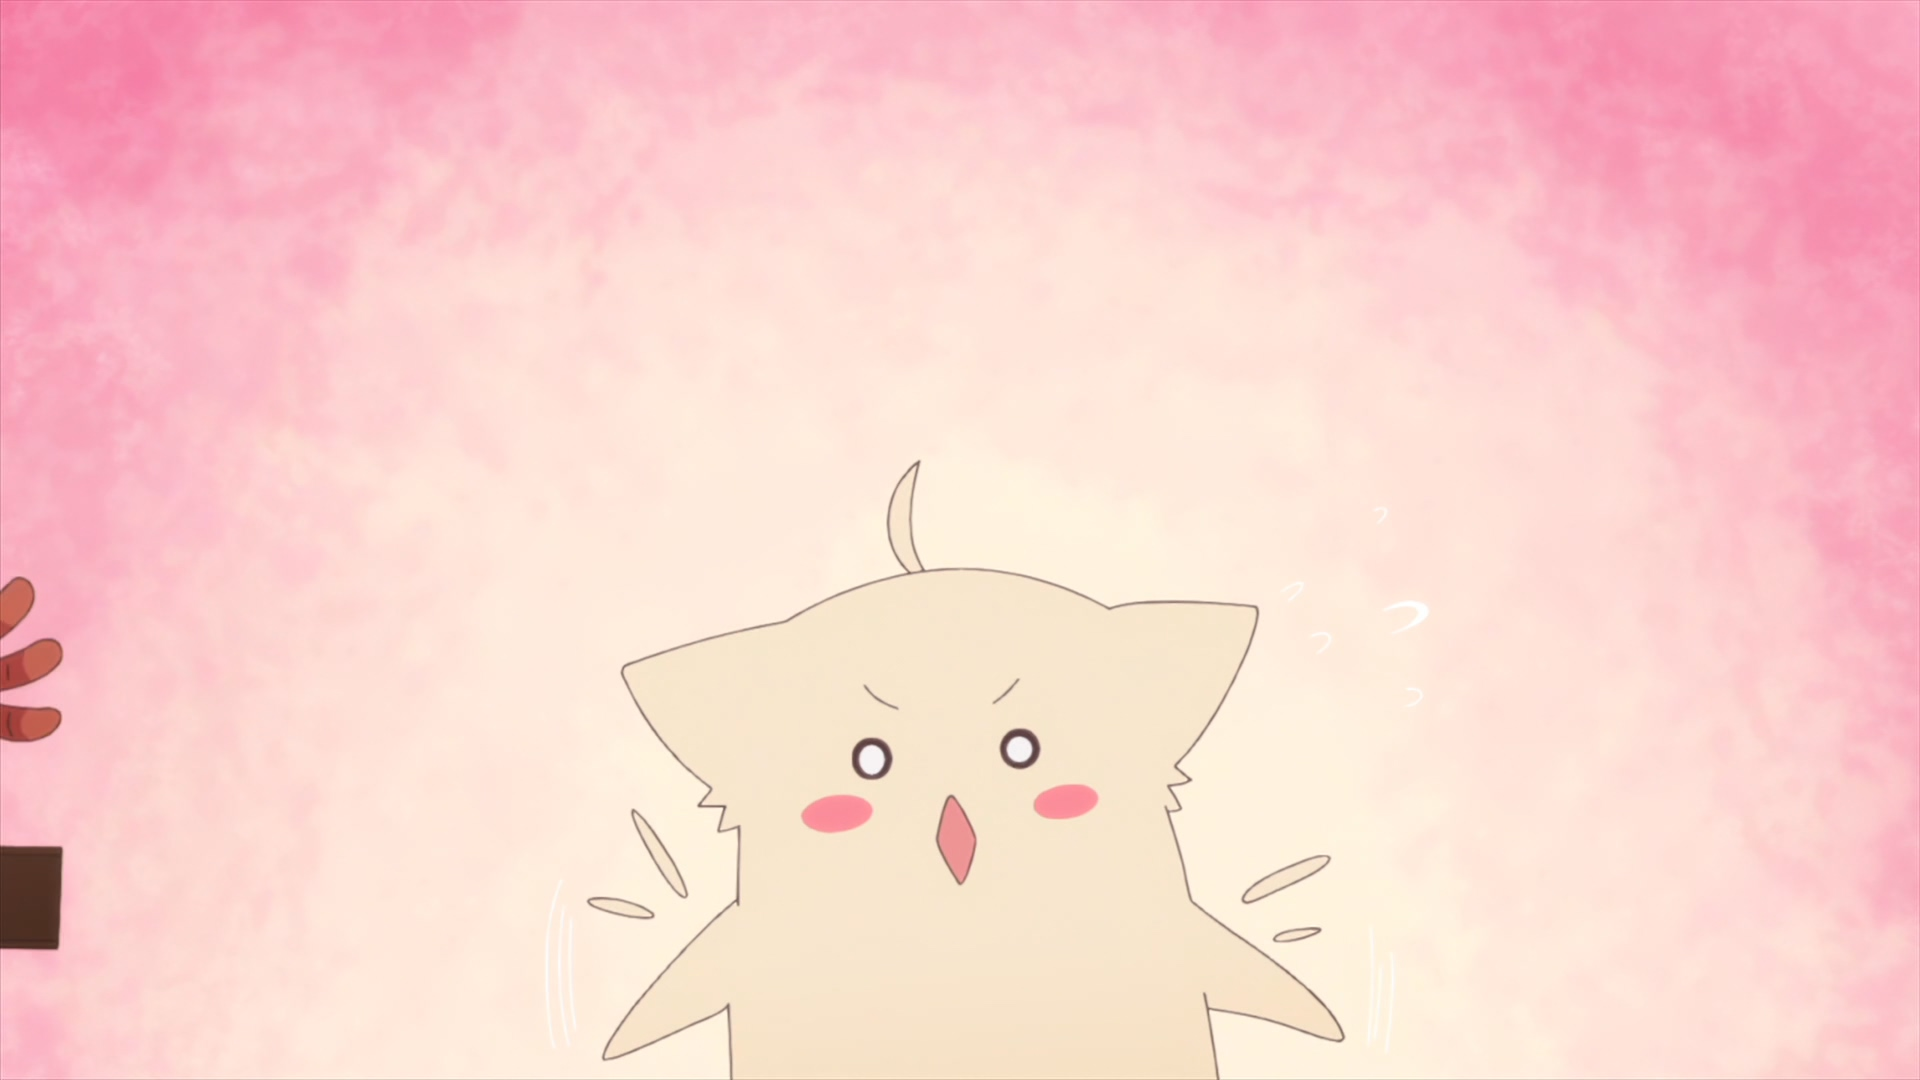柚: (585, 458, 1345, 1080)
